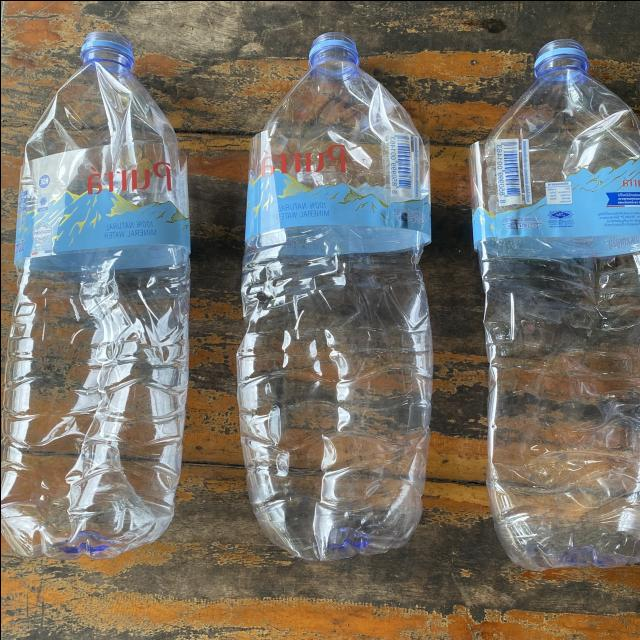plastik: (236, 32, 432, 560), (0, 31, 189, 557), (469, 39, 640, 569)
